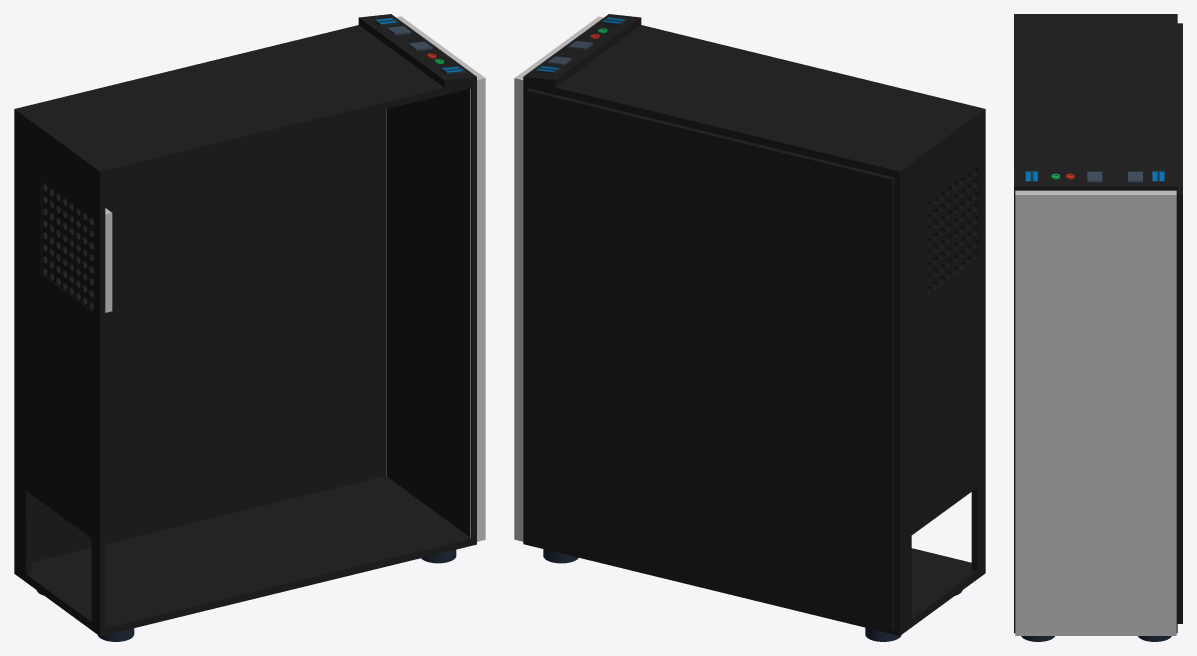
Rendered from Case.obj.
The picture shows the model from 3 angles, left to right: view 1: azimuth 30°, elevation 25°; view 2: azimuth 150°, elevation 25°; view 3: azimuth 270°, elevation 25°; orthographic projection. The views are drawn at different scales.
Parts seen in each view (by area): view 1: Case_Cube.226; view 2: Case_Cube.226; view 3: Case_Cube.226.
Boxes of the visible parts, x1,y1,x2,y2 form: Case_Cube.226: (14, 14, 485, 641); Case_Cube.226: (514, 14, 985, 641); Case_Cube.226: (1014, 14, 1182, 641).
Size of the model in its own units: 8.4 by 10.12 by 3.33.
3 materials, 1 textured.
